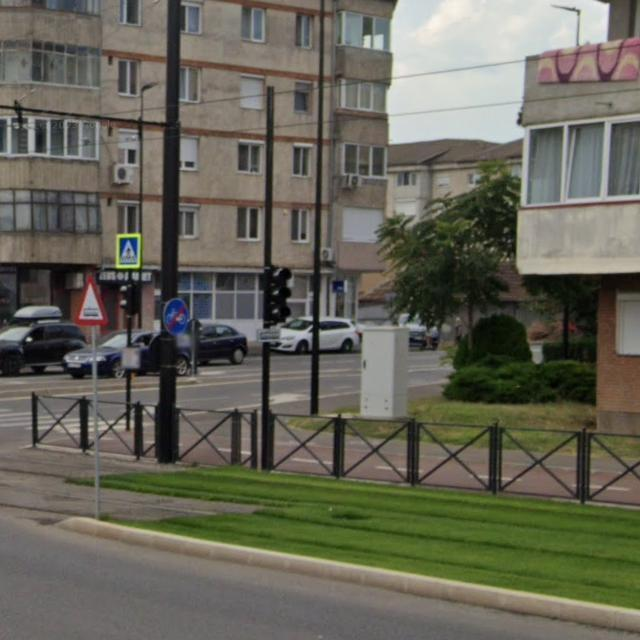info_crosswalk: (116, 233, 142, 269)
